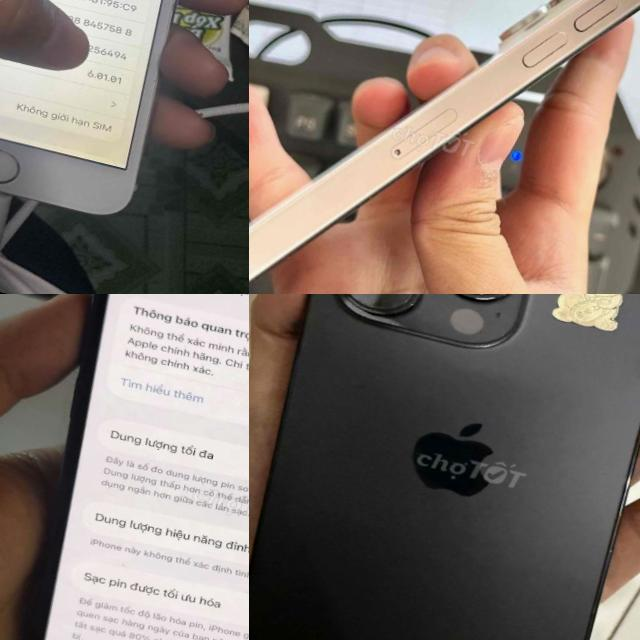gen_12_13: (0, 294, 249, 640)
gen_14: (249, 294, 640, 640)
gen_15: (249, 0, 640, 294)
gen_7_8: (0, 0, 248, 233)
